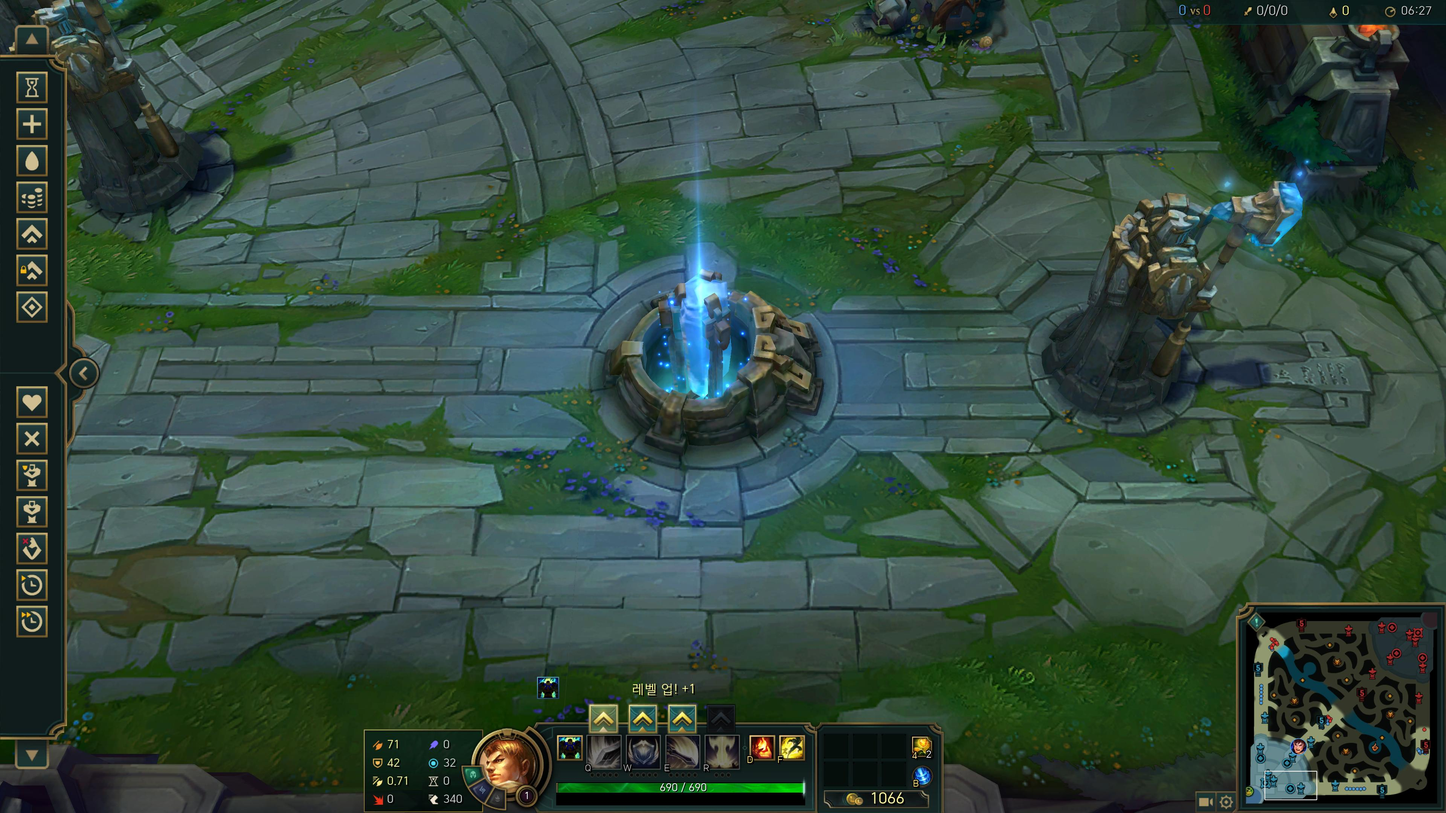ally-inhibitor: (590, 266, 840, 470)
ally-tower: (1028, 181, 1304, 436)
